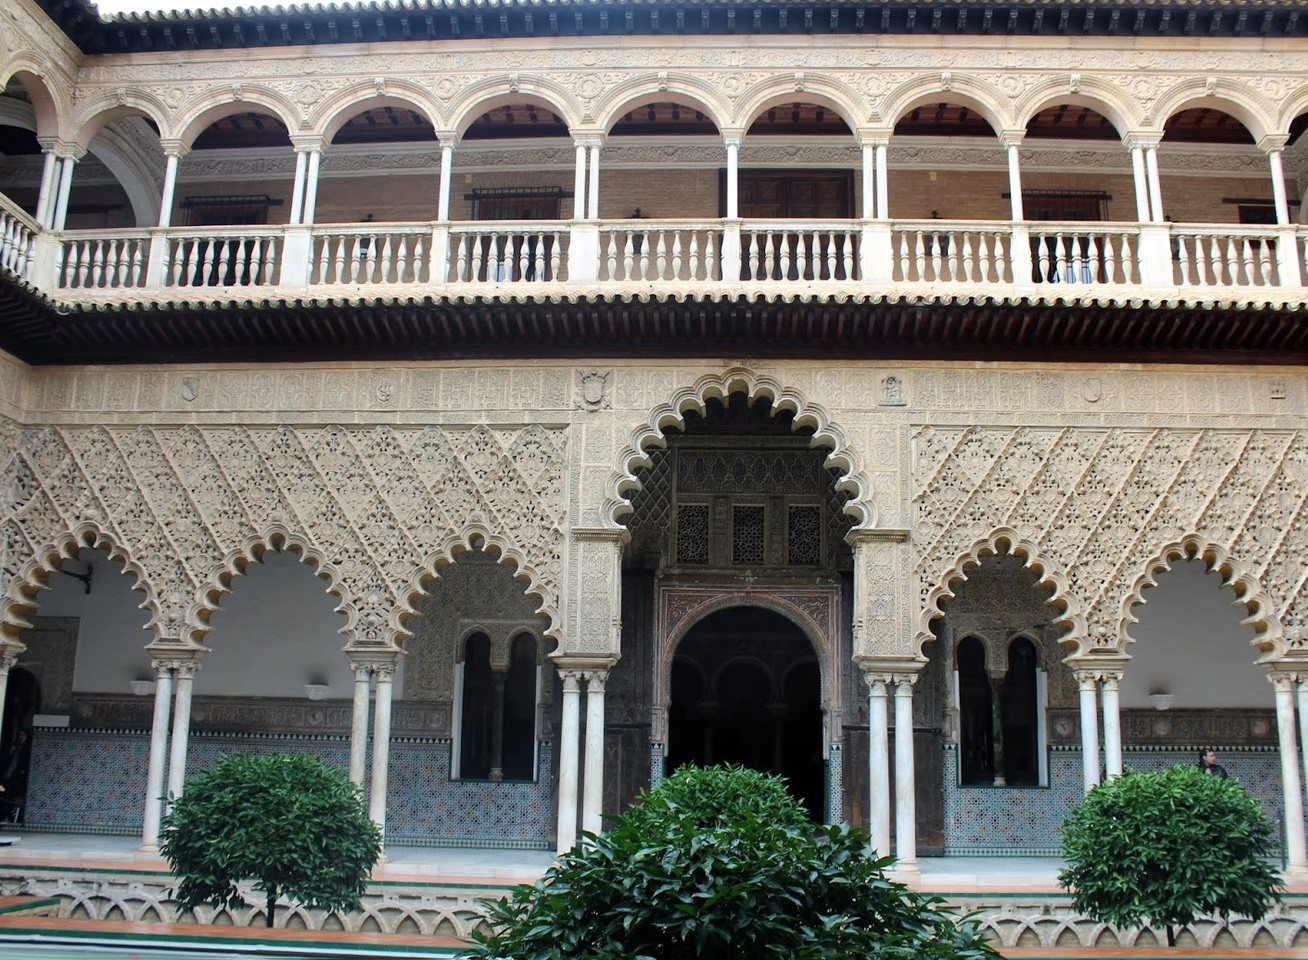arco-lobulado: (595, 364, 886, 553), (376, 522, 586, 695), (1102, 527, 1303, 703), (171, 517, 378, 681), (900, 524, 1100, 692), (1, 519, 178, 673)
arco-medio-punto: (307, 72, 447, 163), (732, 68, 875, 156), (590, 69, 734, 152), (445, 71, 582, 156), (876, 72, 1013, 156), (1012, 72, 1144, 156), (1143, 79, 1276, 161), (172, 83, 306, 162), (66, 86, 173, 163)
